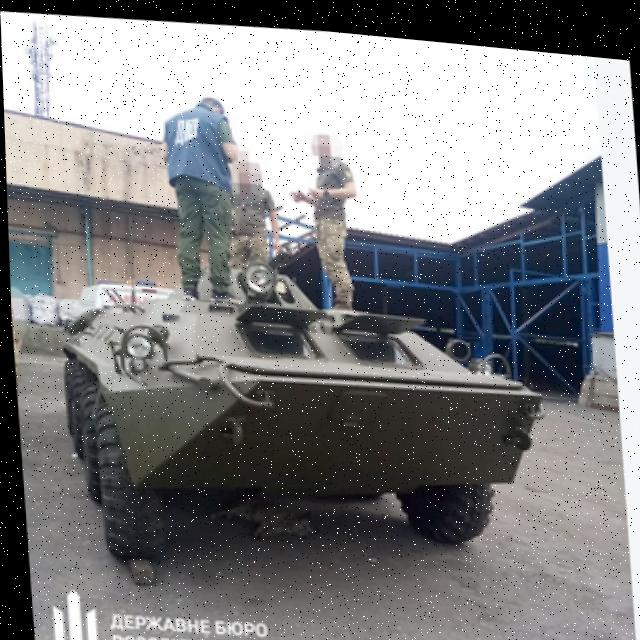MIL_APC: (37, 251, 595, 611)
